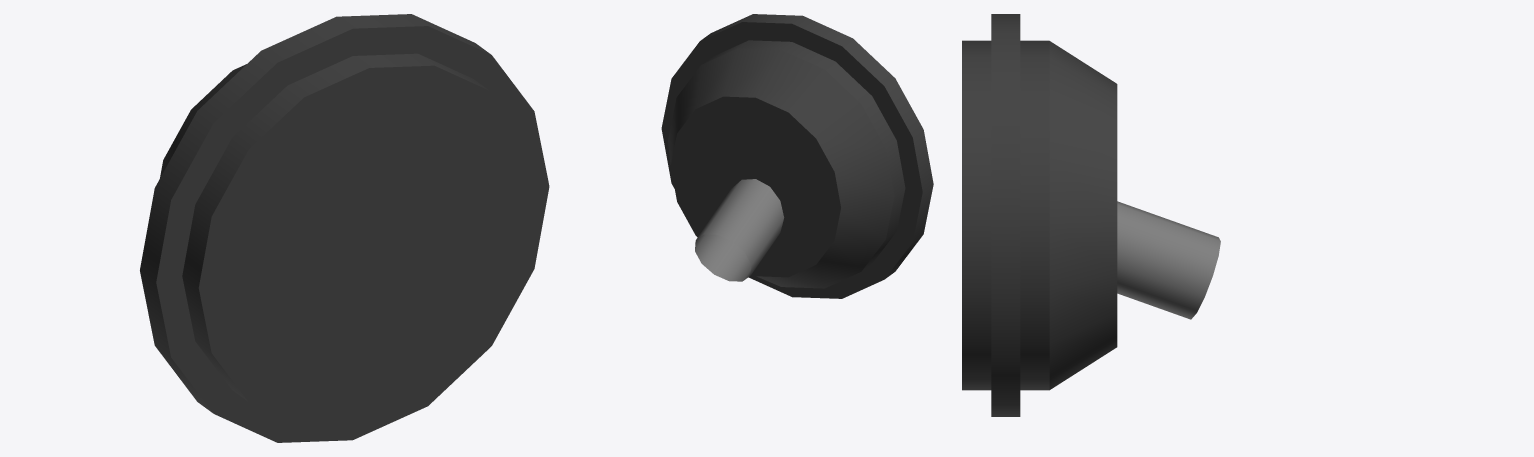
File: Swi_BoPian_1X1_on.fbx
3 views of the same model, side by side, from view 1: azimuth 30°, elevation 25°; view 2: azimuth 150°, elevation 25°; view 3: azimuth 270°, elevation 25° (orthographic). The views are drawn at different scales.
Visible parts, largest first — view 1: Box003; view 2: Box003; view 3: Box003.
Boxes of the visible parts, box(x1,y1,x2,y2) form: Box003: box(140, 14, 549, 442); Box003: box(661, 14, 933, 298); Box003: box(962, 14, 1220, 416).
Size of the model in its own units: 0.4612 by 0.5073 by 0.6377.
